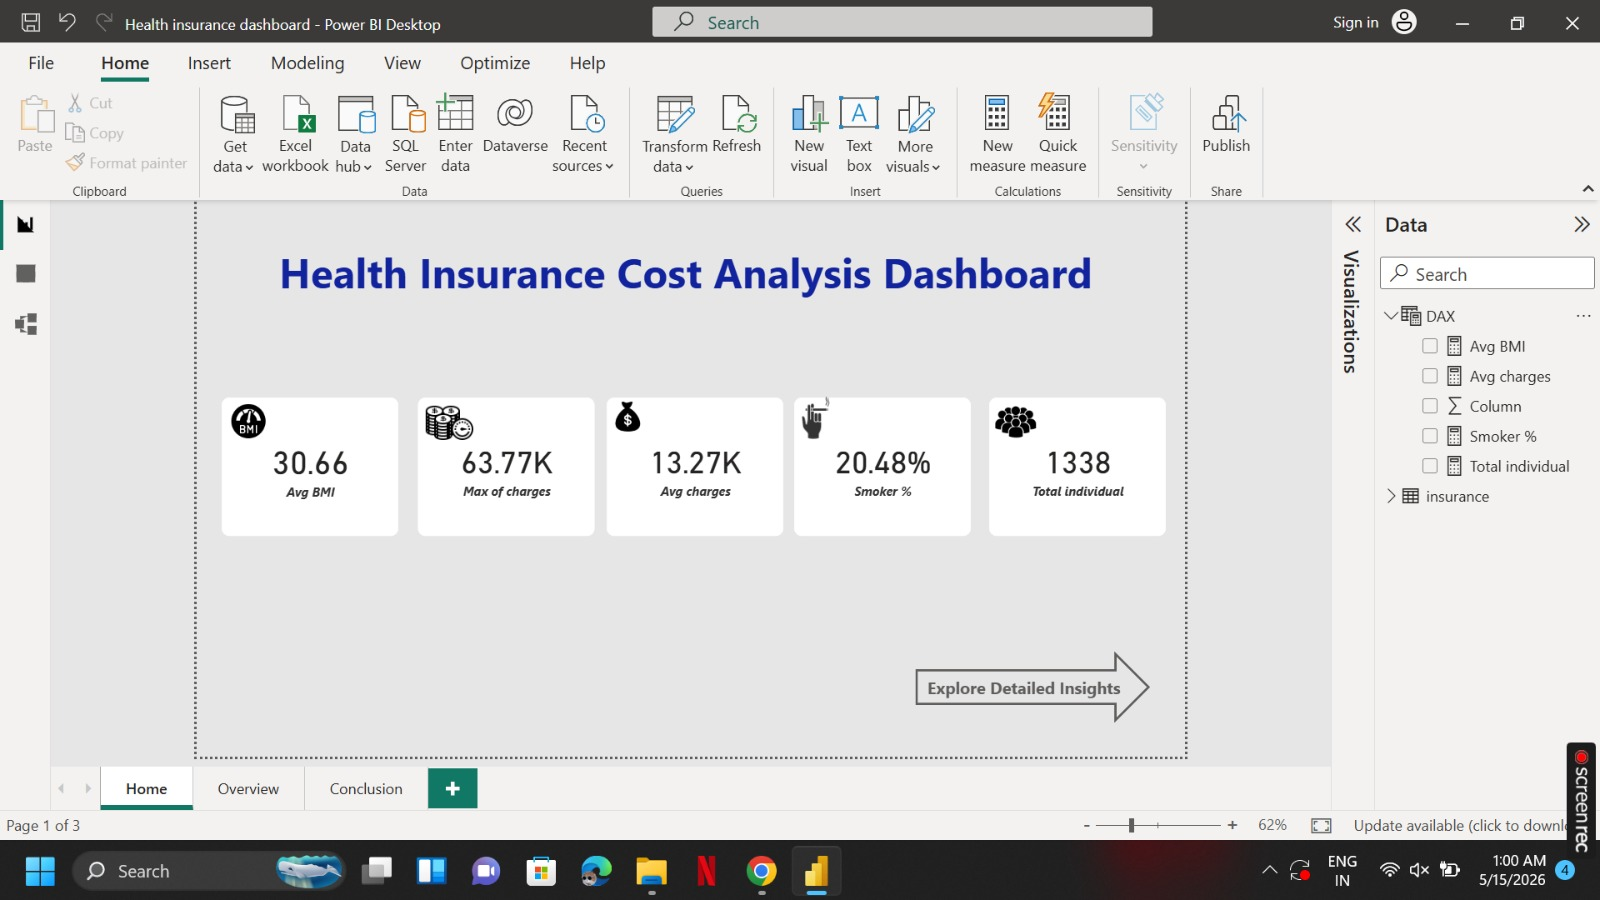

This screenshot's page, from the dashboard's own definition file:
{"tool":"powerbi","page":{"name":"Home","canvas":[1280,720],"ordinal":0},"visuals":[{"type":"card","fields":{"Values":["DAX.Avg BMI"]},"box":[31.6,255.8,228.8,179.5],"z":0},{"type":"card","fields":{"Values":["DAX.Total individual"]},"box":[1025.8,255.8,228.8,179.5],"z":1000},{"type":"card","fields":{"Values":["DAX.Smoker %"]},"box":[773.3,255.8,228.8,179.5],"z":2000},{"type":"card","fields":{"Values":["DAX.Avg charges"]},"box":[530.6,255.8,228.8,179.5],"z":3000},{"type":"textbox","box":[0,33.5,1266.4,126.2],"z":4000},{"type":"card","fields":{"Values":["Max(insurance.charges)"]},"box":[286,255.8,228.8,179.5],"z":5000},{"type":"image","box":[286,242,80.9,75],"z":6000},{"type":"image","box":[31.6,255.8,69,61.2],"z":7000},{"type":"image","box":[530.6,255.8,55.2,49.3],"z":8000},{"type":"image","box":[759.5,243.9,84.8,75],"z":9000},{"type":"image","box":[1025.8,255.8,69,63.1],"z":10000},{"type":"actionButton","box":[931.1,583.9,303.8,92.7],"z":11000}]}

Visuals, with their boxes on the page's 1280x720 design canvas (x1, y1, x2, y2). These are canvas units, not pixel positions in the 1600x900 screenshot, which may show the page scaled, cropped or inside an application window:
card - DAX.Avg BMI: x1=32, y1=256, x2=260, y2=435
card - DAX.Total individual: x1=1026, y1=256, x2=1255, y2=435
card - DAX.Smoker %: x1=773, y1=256, x2=1002, y2=435
card - DAX.Avg charges: x1=531, y1=256, x2=759, y2=435
textbox: x1=0, y1=34, x2=1266, y2=160
card - Max(insurance.charges): x1=286, y1=256, x2=515, y2=435
image: x1=286, y1=242, x2=367, y2=317
image: x1=32, y1=256, x2=101, y2=317
image: x1=531, y1=256, x2=586, y2=305
image: x1=760, y1=244, x2=844, y2=319
image: x1=1026, y1=256, x2=1095, y2=319
actionButton: x1=931, y1=584, x2=1235, y2=677
